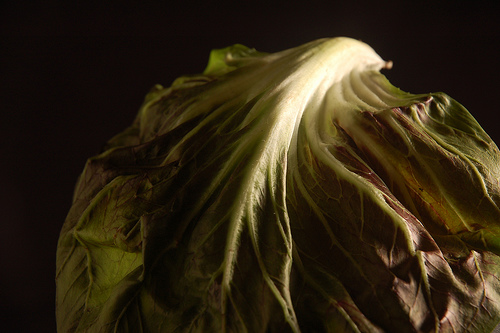cabbage: (46, 34, 499, 332)
